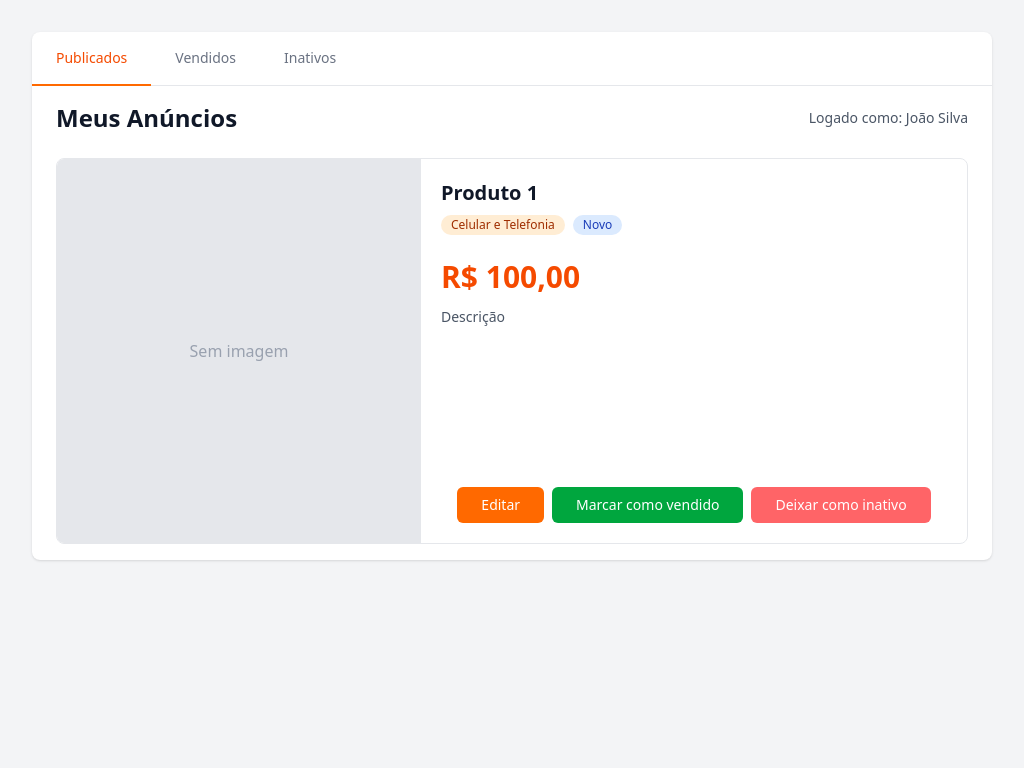
Test case: MeusAnuncios Component › deve abrir modal ao clicar em "Marcar como vendido"
Expected: the heading "Produto 1" is shown, [441,179,538,206]
Click the button "Marcar como vendido": (648, 505) [552,487,744,523]
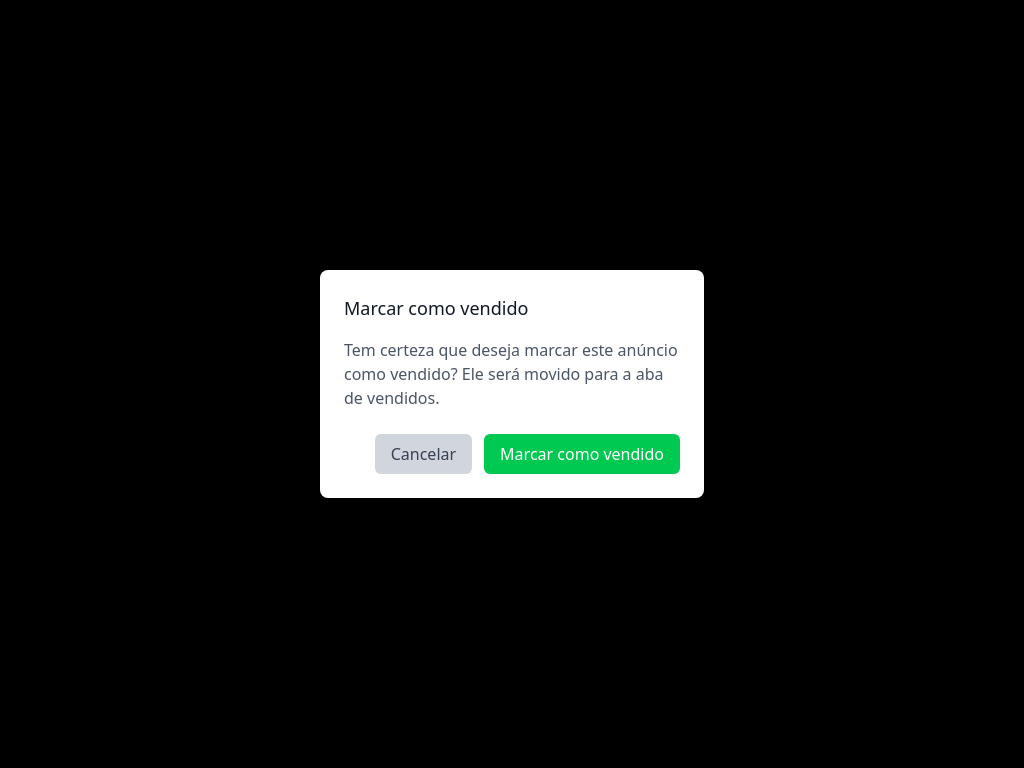
Expected: the text "Tem certeza que deseja marcar este anúncio como vendido" is shown, [344,339,678,409]
